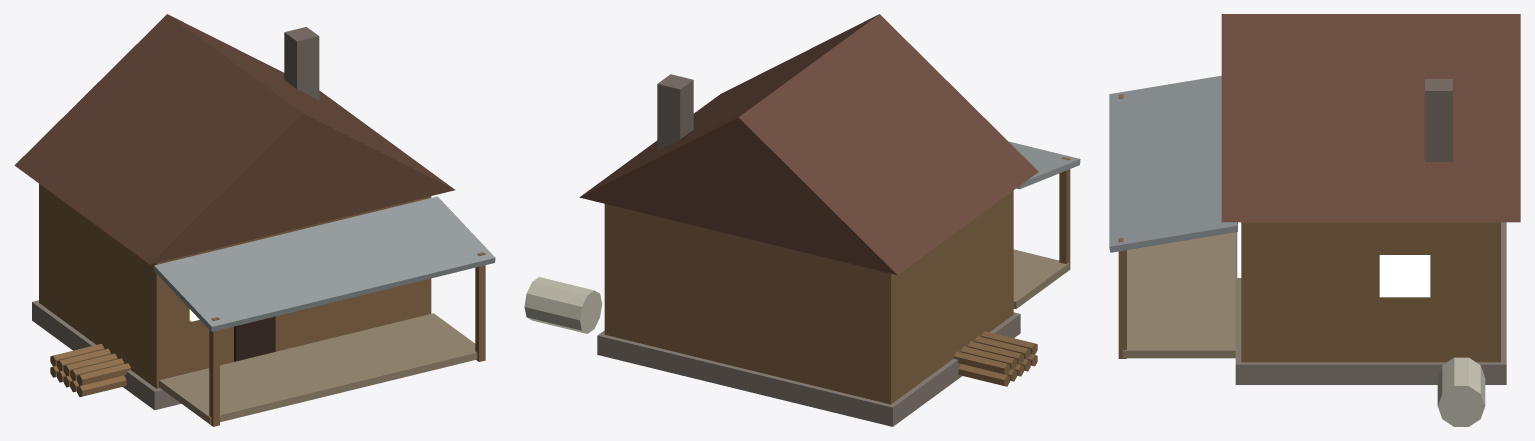
Rendered from cottage.glb.
3 views of the same model, side by side, from view 1: azimuth 30°, elevation 25°; view 2: azimuth 150°, elevation 25°; view 3: azimuth 270°, elevation 25° (orthographic). The views are drawn at different scales.
Parts seen in each view (by area): view 1: cottage; view 2: cottage; view 3: cottage.
Boxes of the visible parts, x1,y1,x2,y2 form: cottage: [14, 14, 495, 426]; cottage: [524, 14, 1080, 426]; cottage: [1109, 14, 1520, 426].
Bounding box in the file's own units: 9.2 × 5.76 × 7.29.
